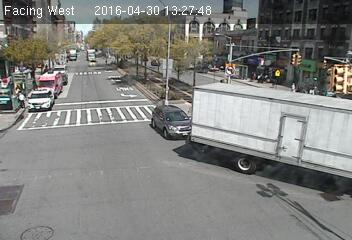neg: (29, 176, 45, 198), (275, 68, 289, 88), (166, 120, 180, 139), (248, 66, 262, 85), (159, 79, 172, 97)
pos: (15, 92, 29, 110)
